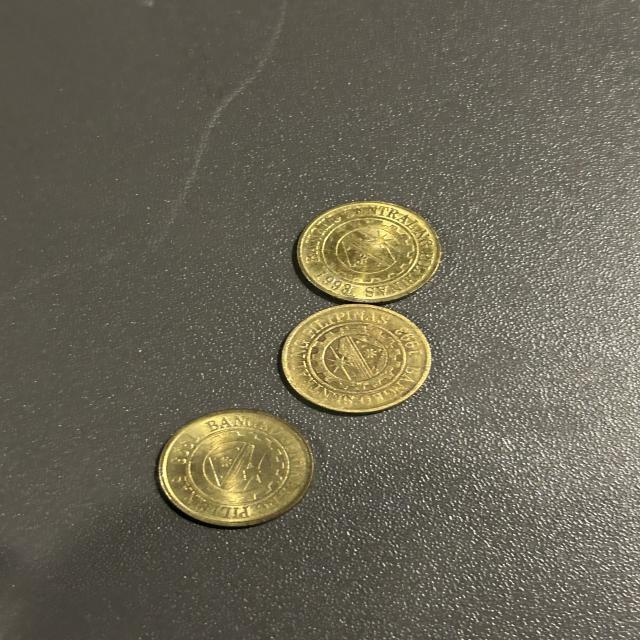25Cent_Old_Back: (182, 421, 298, 514), (309, 216, 440, 290), (313, 321, 428, 396)
